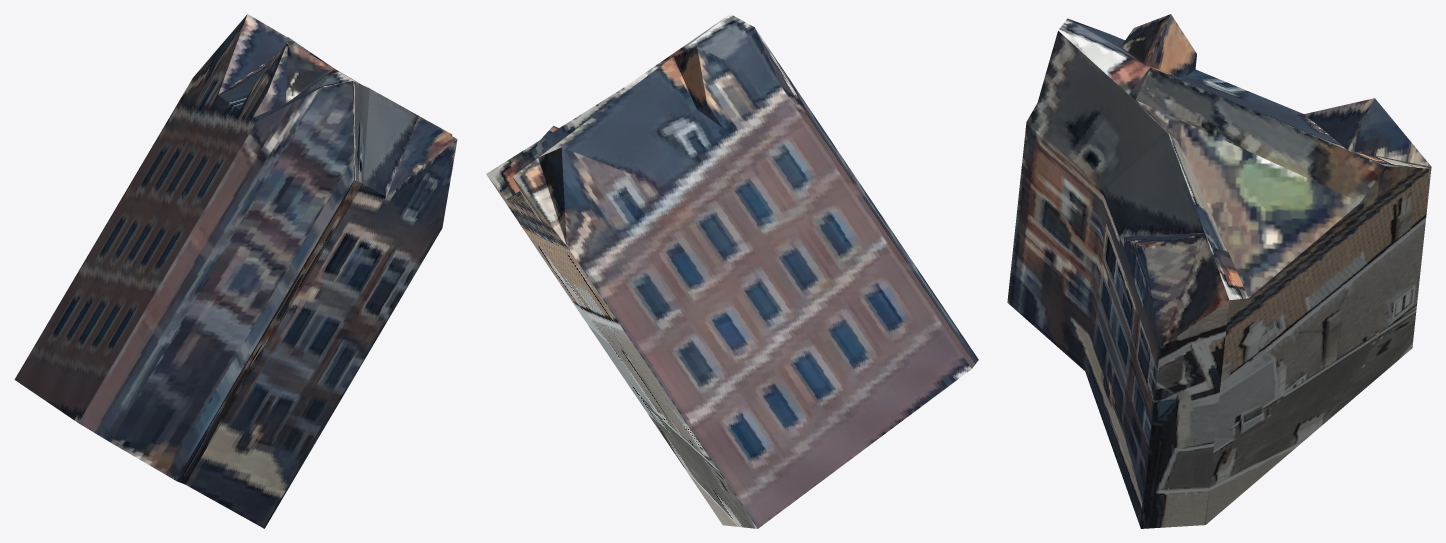
The picture shows the model from 3 angles, left to right: view 1: azimuth 30°, elevation 25°; view 2: azimuth 150°, elevation 25°; view 3: azimuth 270°, elevation 25°; orthographic projection. The views are drawn at different scales.
Parts seen in each view (by area): view 1: BAG_0599100000631930 (×6); view 2: BAG_0599100000631930 (×6); view 3: BAG_0599100000631930 (×7).
Part boxes in pixels (box(x1,y1,x2,y2)): BAG_0599100000631930 (×6): box(14, 14, 457, 528); BAG_0599100000631930 (×6): box(486, 14, 978, 528); BAG_0599100000631930 (×7): box(1007, 14, 1431, 528).
Size of the model in its own units: 19.99 by 20.59 by 14.79.
Materials: 1 (1 with a texture image).
